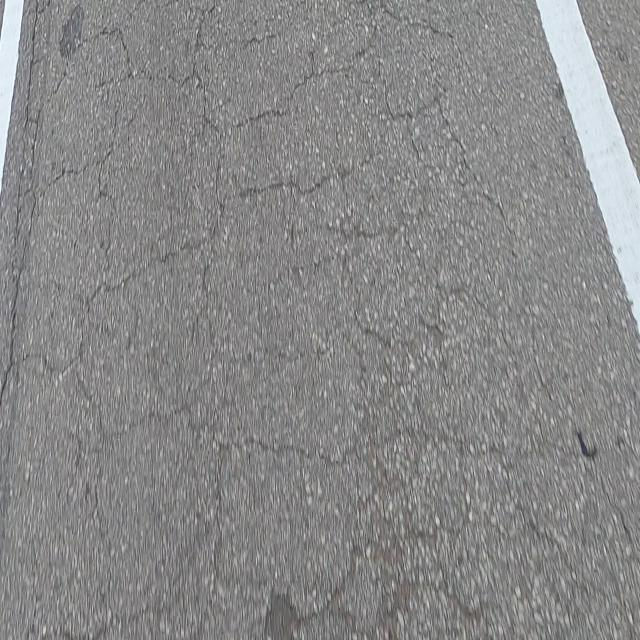Retak-Buaya: (0, 0, 624, 637)
